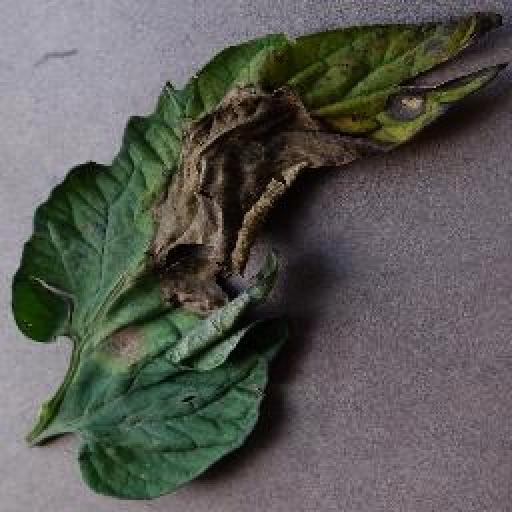disease_tomato: (10, 5, 512, 499)
